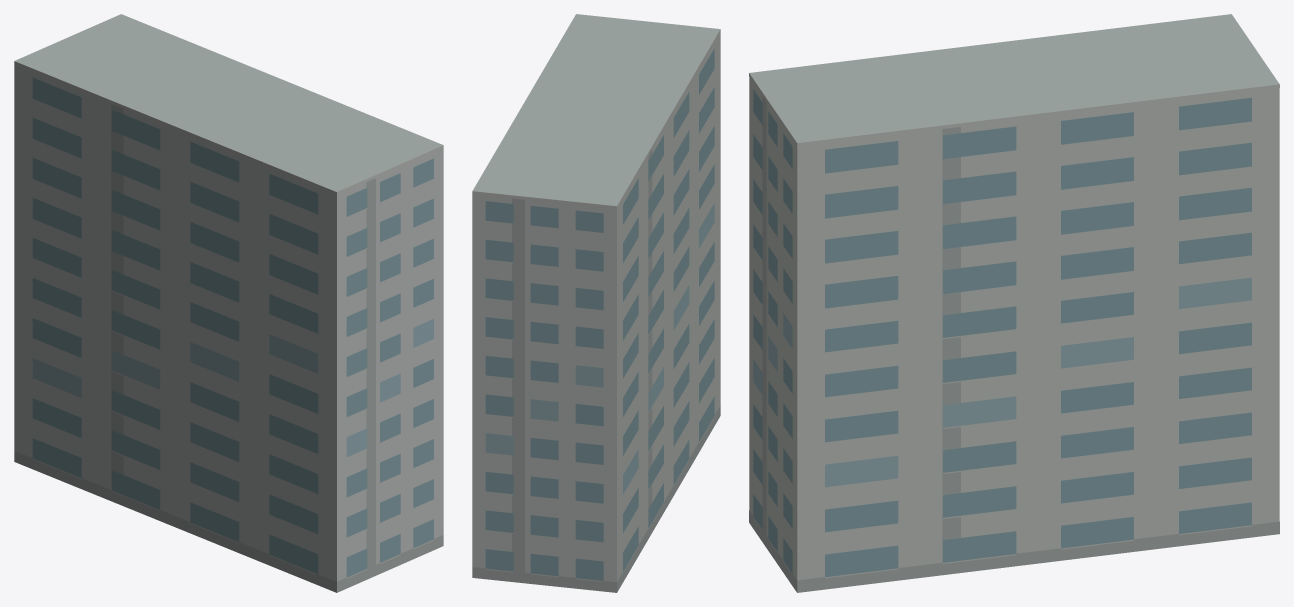
File: residential-8d39d6f5-c9d1-4580-8a8c-63ae3b07f766.glb
3 renders of one model, left to right at view 1: azimuth 30°, elevation 25°; view 2: azimuth 150°, elevation 25°; view 3: azimuth 270°, elevation 25°, orthographic. The views are drawn at different scales.
Visible parts, largest first — view 1: residential-8d39d6f5-c9d1-4580-8a8c-63ae3b07f766.tmp; view 2: residential-8d39d6f5-c9d1-4580-8a8c-63ae3b07f766.tmp; view 3: residential-8d39d6f5-c9d1-4580-8a8c-63ae3b07f766.tmp.
Part boxes in pixels (bbox=[...]): residential-8d39d6f5-c9d1-4580-8a8c-63ae3b07f766.tmp: bbox=[14, 14, 443, 592]; residential-8d39d6f5-c9d1-4580-8a8c-63ae3b07f766.tmp: bbox=[472, 14, 720, 592]; residential-8d39d6f5-c9d1-4580-8a8c-63ae3b07f766.tmp: bbox=[749, 14, 1279, 592].
Size of the model in its own units: 19.11 by 31 by 33.16.
